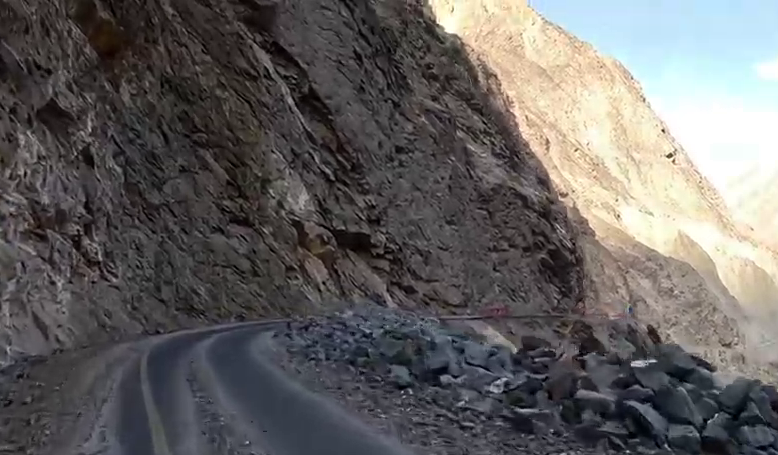unexpected: (242, 236, 632, 436)
